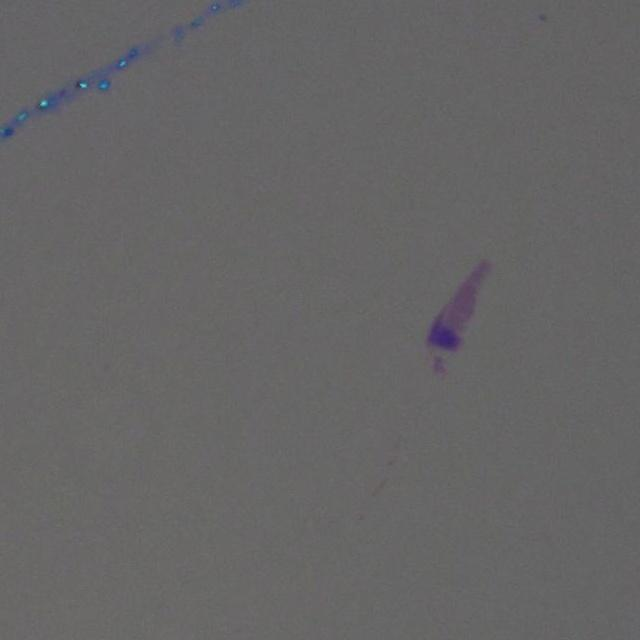monolayer-eWW4: (442, 255, 493, 334)
